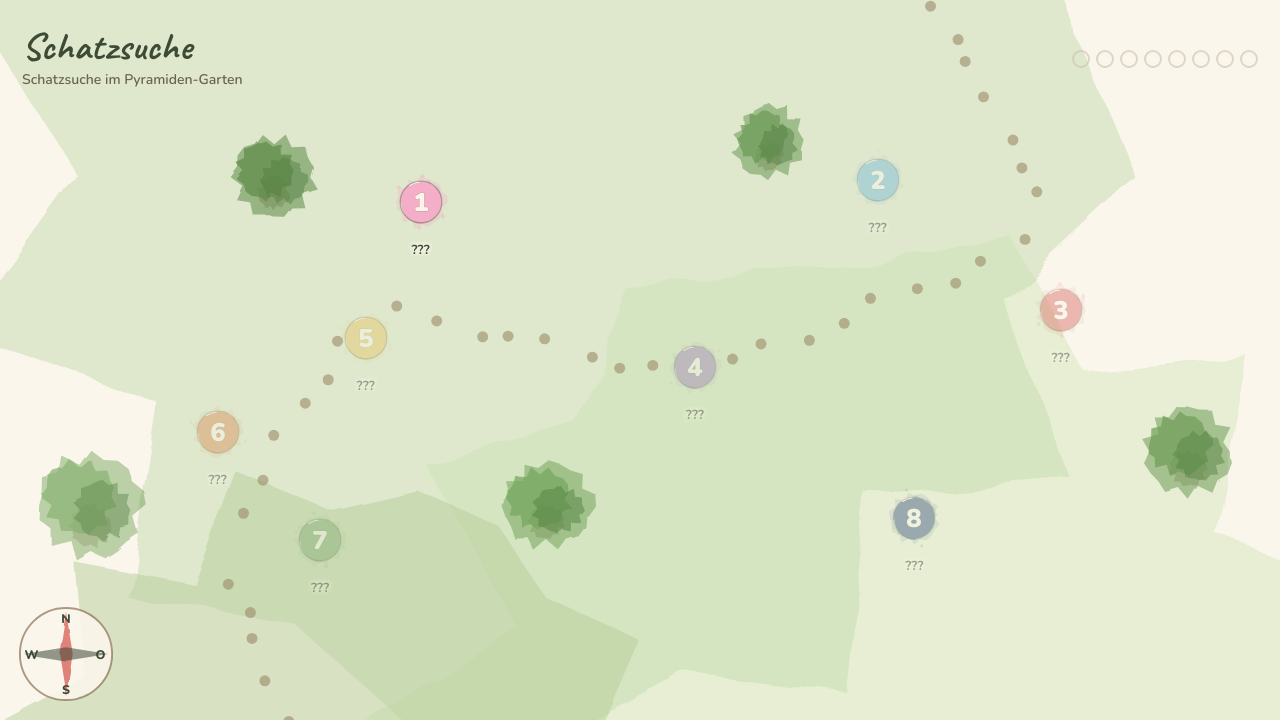
Test case: MapScreen › Glücksrad / generator › clicking MICHEL in the modal assigns slot 8 after the spin
Click the button named "Glücksrad öffnen" at (66, 654), box [18,606,114,702]
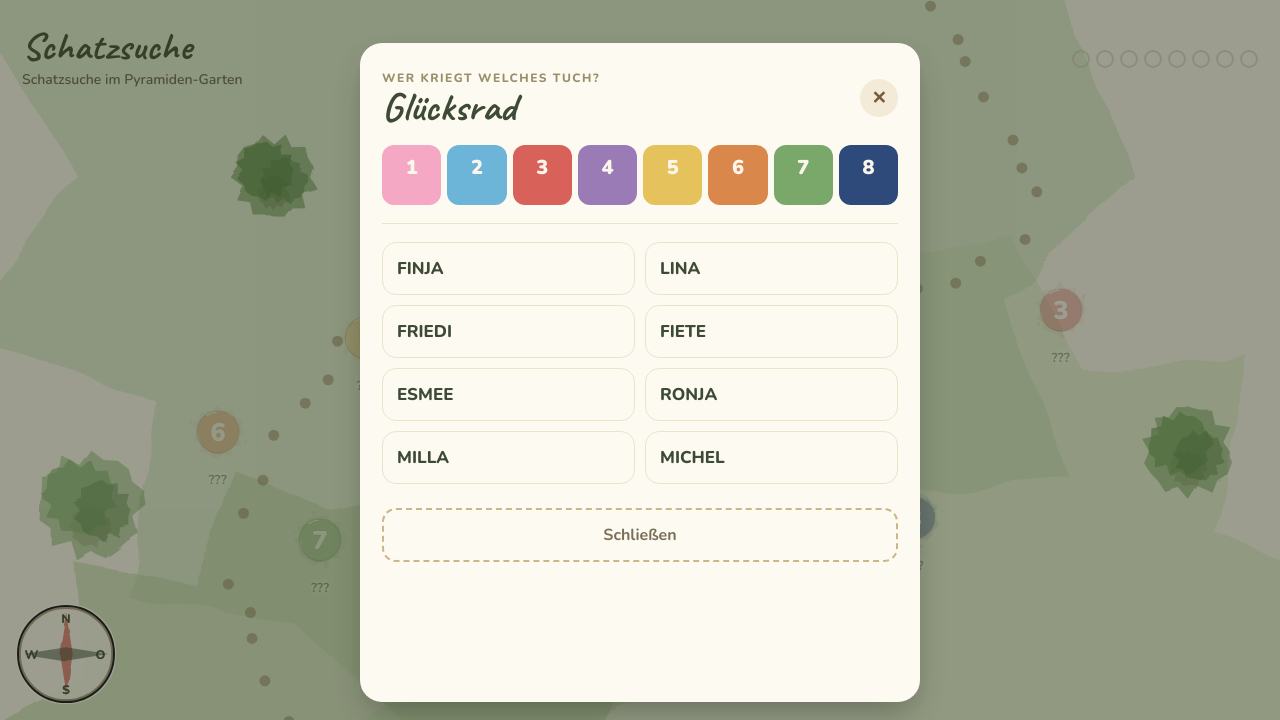
Click the button with aria-label "MICHEL zuweisen" at (772, 458), box [645,431,898,484]
Wait 1600 ms
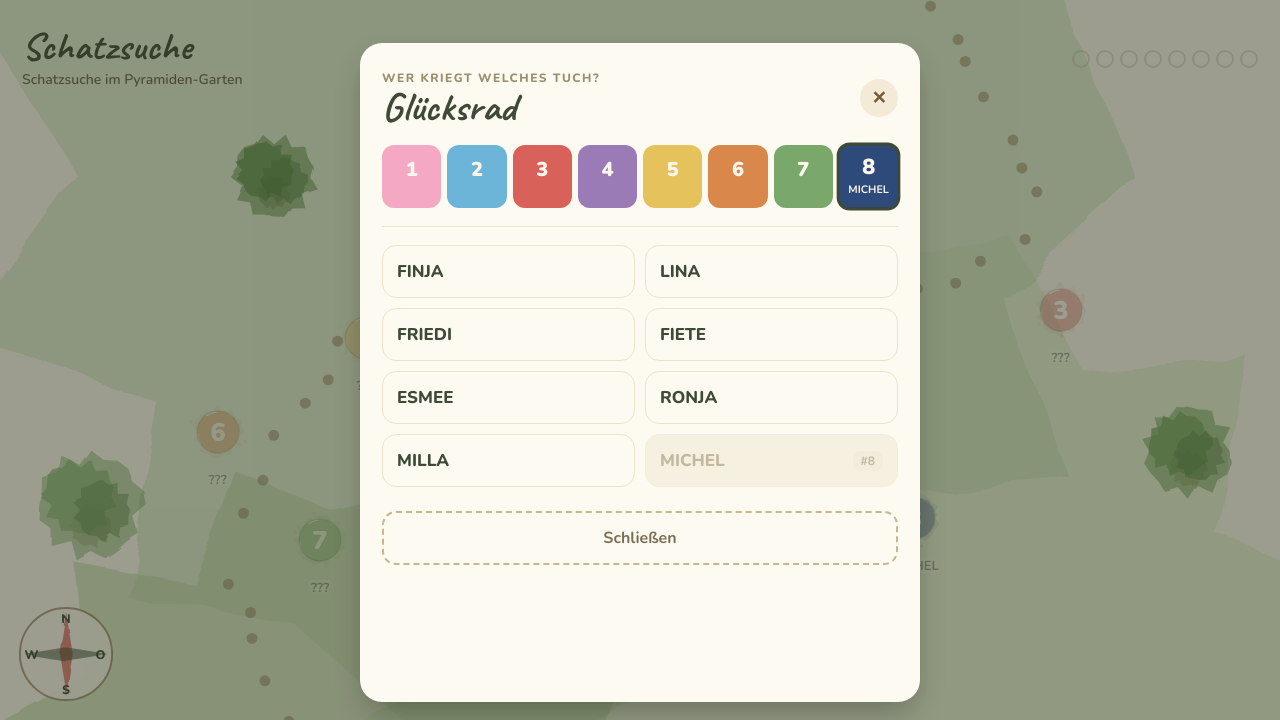
Now the 3rd text "MICHEL" is shown, box [890,560,939,573]
